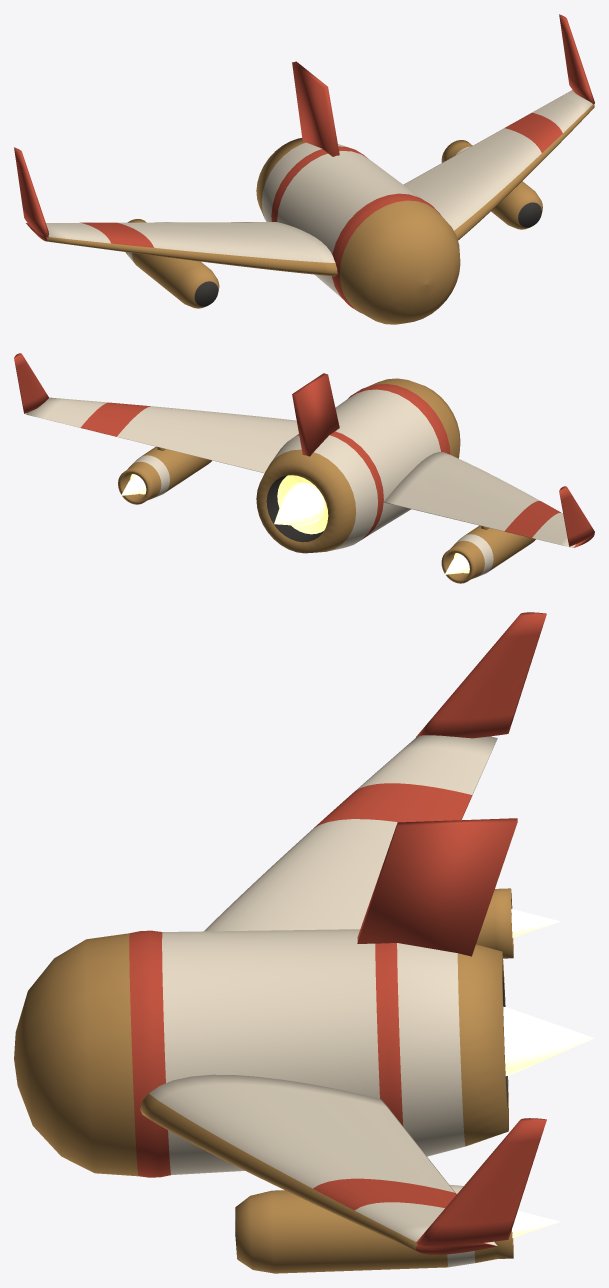
Rendered from jet_wings_item.glb.
3 renders of one model, top to bottom at view 1: azimuth 30°, elevation 25°; view 2: azimuth 150°, elevation 25°; view 3: azimuth 270°, elevation 25°, orthographic. The views are drawn at different scales.
Visible parts, largest first — view 1: JI_Body, JW_WingL, JW_WingR; view 2: JI_Body, JW_WingR, JW_WingL, JW_FlameR (×2), JW_FlameL; view 3: JI_Body, JW_WingR, JW_WingL, JW_FlameR.
Part boxes in pixels (left/top/right/bottom): JI_Body: left=256, top=61, right=460, bottom=324; JW_WingL: left=14, top=147, right=337, bottom=308; JW_WingR: left=403, top=14, right=594, bottom=240; JI_Body: left=256, top=373, right=460, bottom=553; JW_WingR: left=14, top=353, right=298, bottom=504; JW_WingL: left=383, top=452, right=594, bottom=583; JW_FlameR (×2): left=121, top=474, right=325, bottom=525; JW_FlameL: left=445, top=553, right=469, bottom=574; JI_Body: left=14, top=818, right=517, bottom=1177; JW_WingR: left=140, top=1074, right=546, bottom=1273; JW_WingL: left=204, top=612, right=546, bottom=958; JW_FlameR: left=503, top=1006, right=594, bottom=1075.
Size of the model in its own units: 0.4453 by 0.1397 by 0.2126.
